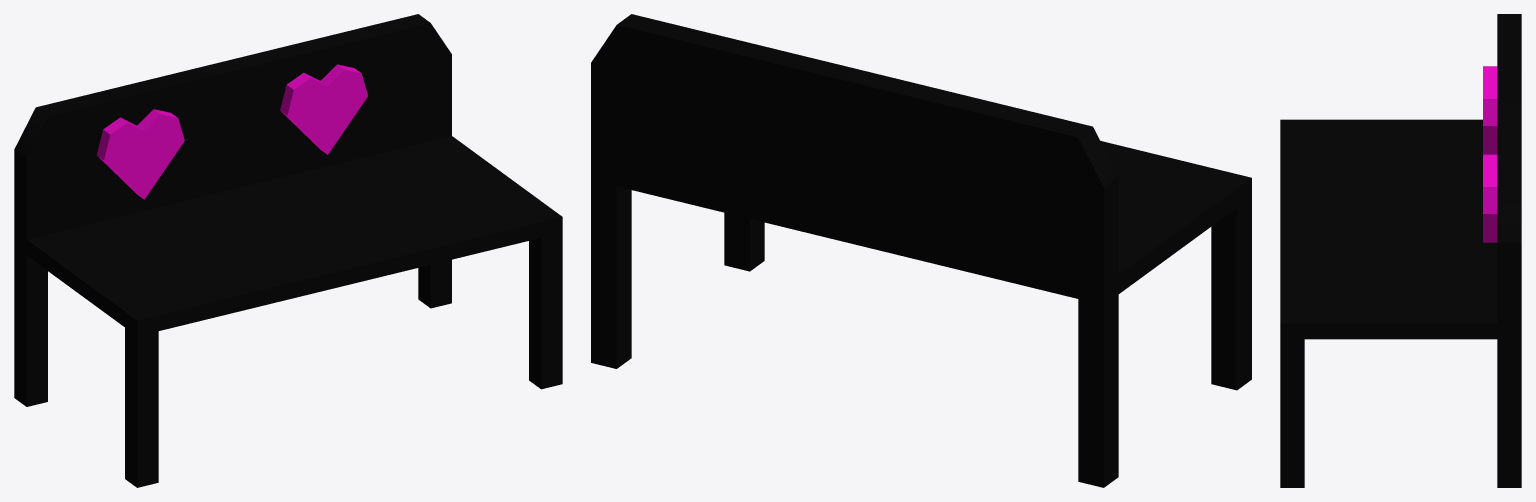
File: COMPUTADOR 1.fbx
The picture shows the model from 3 angles, left to right: view 1: azimuth 30°, elevation 25°; view 2: azimuth 150°, elevation 25°; view 3: azimuth 270°, elevation 25°; orthographic projection. The views are drawn at different scales.
Visible parts, largest first — view 1: ESCRITORIO, CORAZONES; view 2: ESCRITORIO; view 3: ESCRITORIO, CORAZONES.
Part boxes in pixels (x1,y1,x2,y2): ESCRITORIO: [14, 14, 562, 487]; CORAZONES: [97, 64, 367, 199]; ESCRITORIO: [591, 14, 1251, 487]; ESCRITORIO: [1280, 14, 1521, 487]; CORAZONES: [1483, 66, 1497, 242].
Size of the model in its own units: 539 by 346 by 270.
